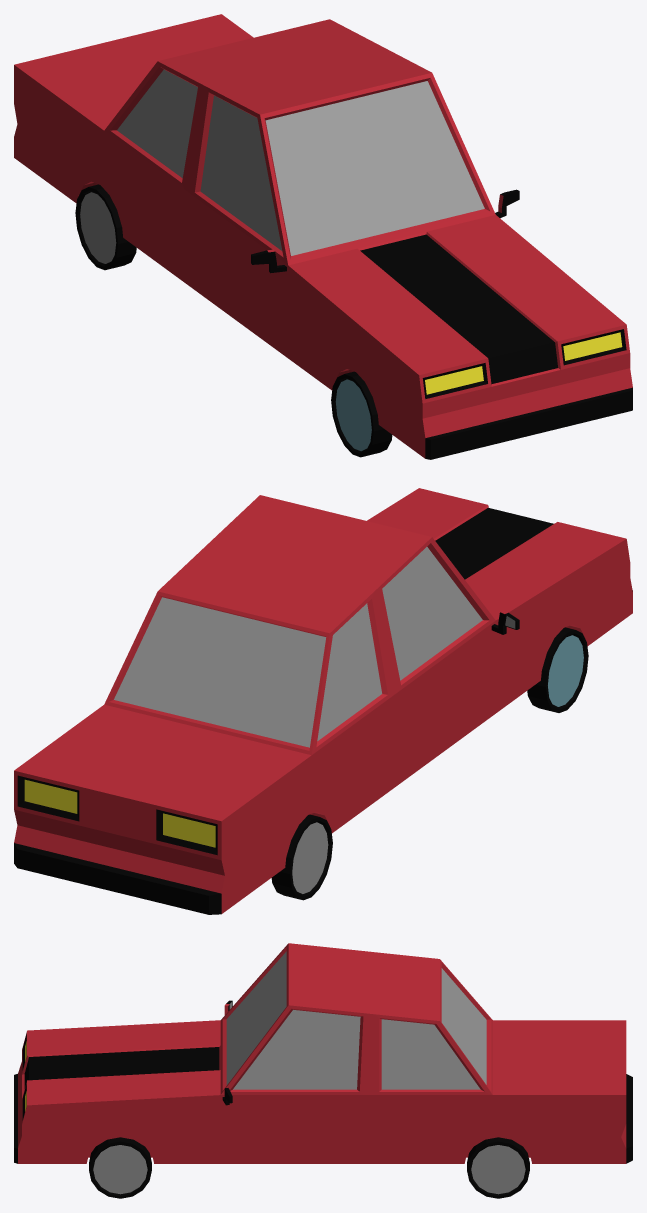
The model's file is sedan car 1.fbx.
3 views of the same model, one above another, from view 1: azimuth 30°, elevation 25°; view 2: azimuth 150°, elevation 25°; view 3: azimuth 270°, elevation 25° (orthographic). The views are drawn at different scales.
Visible parts, largest first — view 1: Sedan Car Body.001, Wheel RR.006, Wheel FR.007; view 2: Sedan Car Body.001, Wheel FR.007, Wheel RR.006; view 3: Sedan Car Body.001, Wheel FL.007, Wheel RL.006.
Boxes of the visible parts, bbox=[...] form: Sedan Car Body.001: bbox=[14, 14, 632, 459]; Wheel RR.006: bbox=[75, 184, 136, 270]; Wheel FR.007: bbox=[331, 371, 392, 457]; Sedan Car Body.001: bbox=[14, 488, 632, 914]; Wheel FR.007: bbox=[527, 627, 588, 712]; Wheel RR.006: bbox=[271, 814, 332, 900]; Sedan Car Body.001: bbox=[14, 943, 632, 1163]; Wheel FL.007: bbox=[89, 1137, 151, 1198]; Wheel RL.006: bbox=[467, 1137, 529, 1198].
Size of the model in its own units: 1.64 by 1.47 by 4.44.
